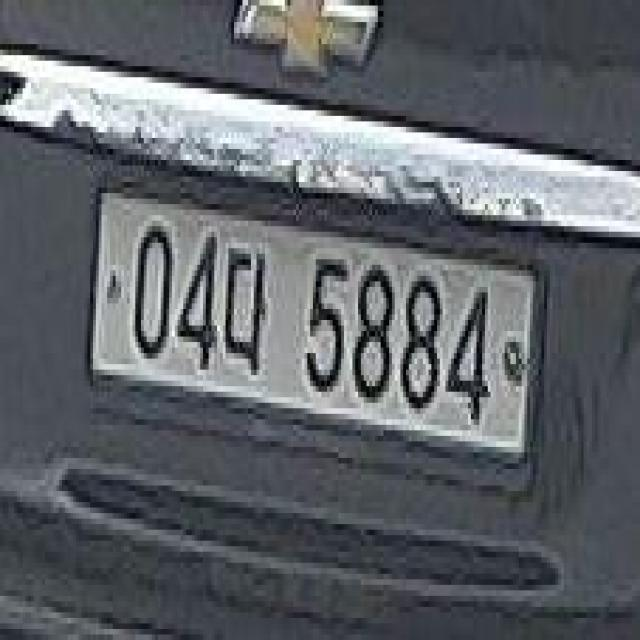illegal_plate: (88, 174, 539, 486)
